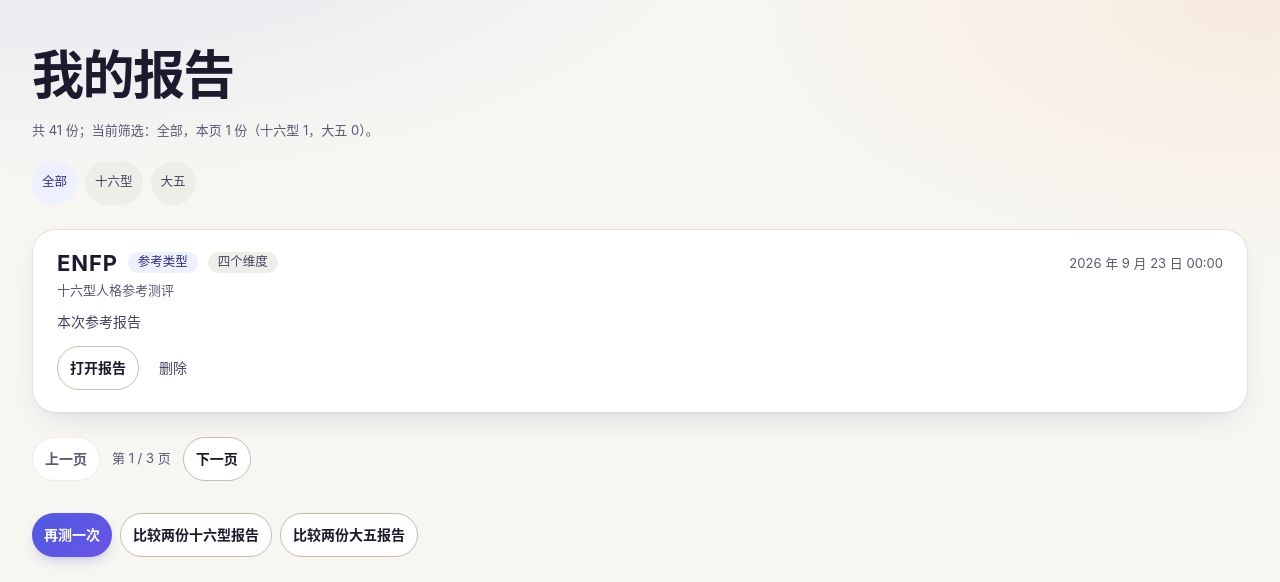
it: 历史报告分页 › 切换筛选隔离旧响应
Click the button "十六型": click(114, 183) [85, 161, 142, 205]
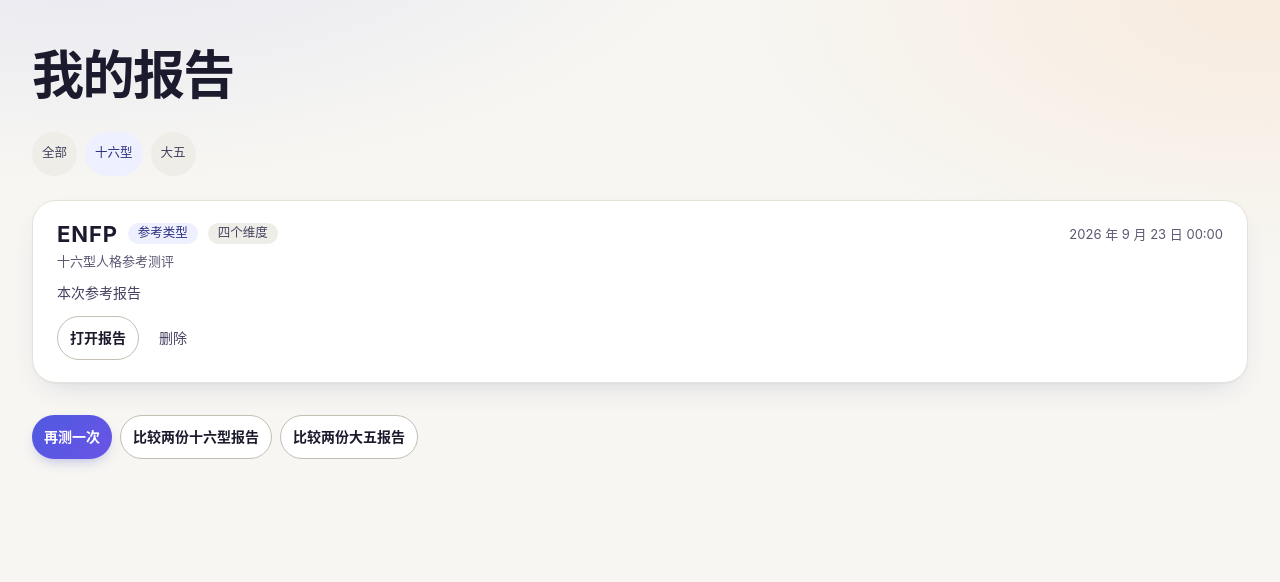
Click the button "大五": click(173, 154) [150, 132, 196, 176]
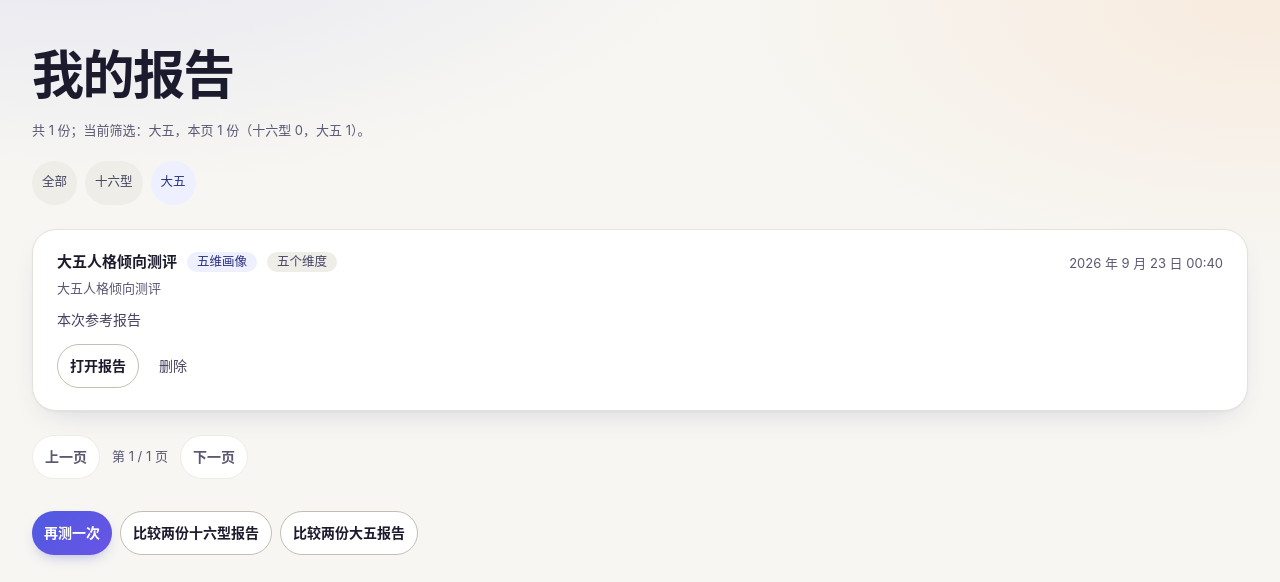
Now the text "共 1 份；当前筛选：大五，本页 1 份（十六型 0，大五 1）。" is shown, box [32, 122, 370, 138]
